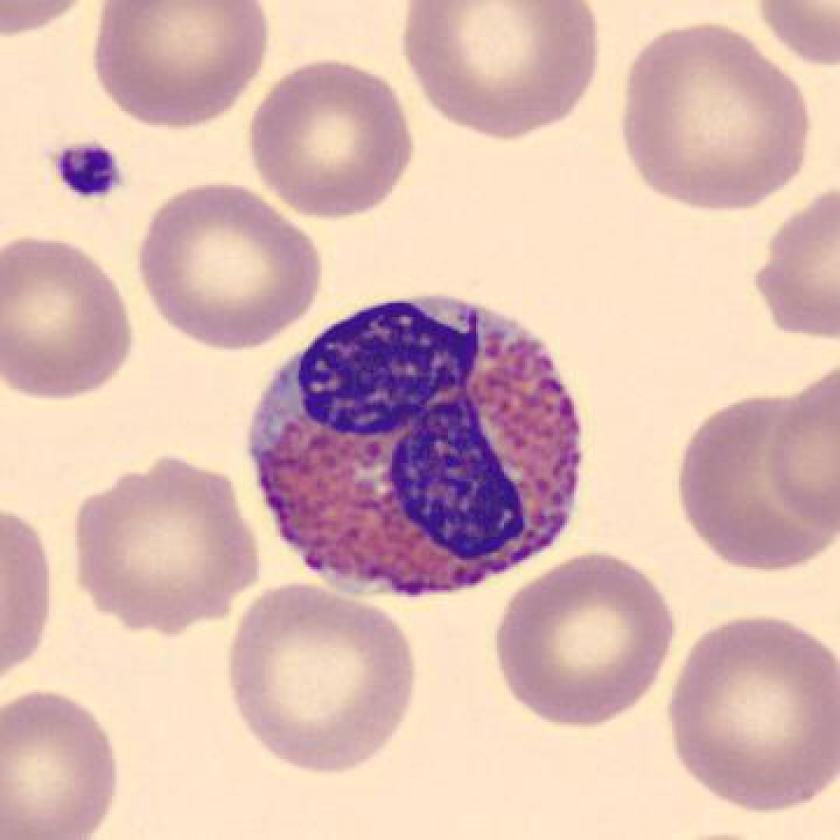eosinophil: (230, 281, 594, 612)
